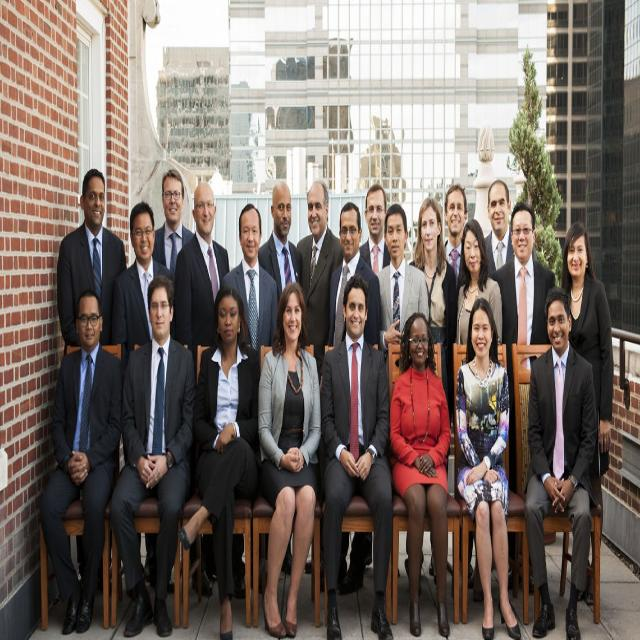body: (105, 271, 200, 639), (317, 273, 405, 639), (38, 283, 126, 636), (56, 167, 128, 598), (178, 282, 264, 639), (522, 281, 600, 639), (110, 193, 177, 598), (489, 198, 556, 597), (172, 174, 234, 602), (453, 292, 528, 639), (257, 280, 322, 640), (327, 200, 382, 596), (389, 306, 454, 639), (560, 220, 614, 608), (408, 194, 457, 581), (375, 202, 431, 386), (295, 178, 343, 388), (220, 200, 280, 357), (456, 216, 503, 345), (257, 180, 303, 304), (150, 167, 196, 279), (358, 183, 392, 279), (482, 177, 514, 277), (442, 182, 469, 292)
